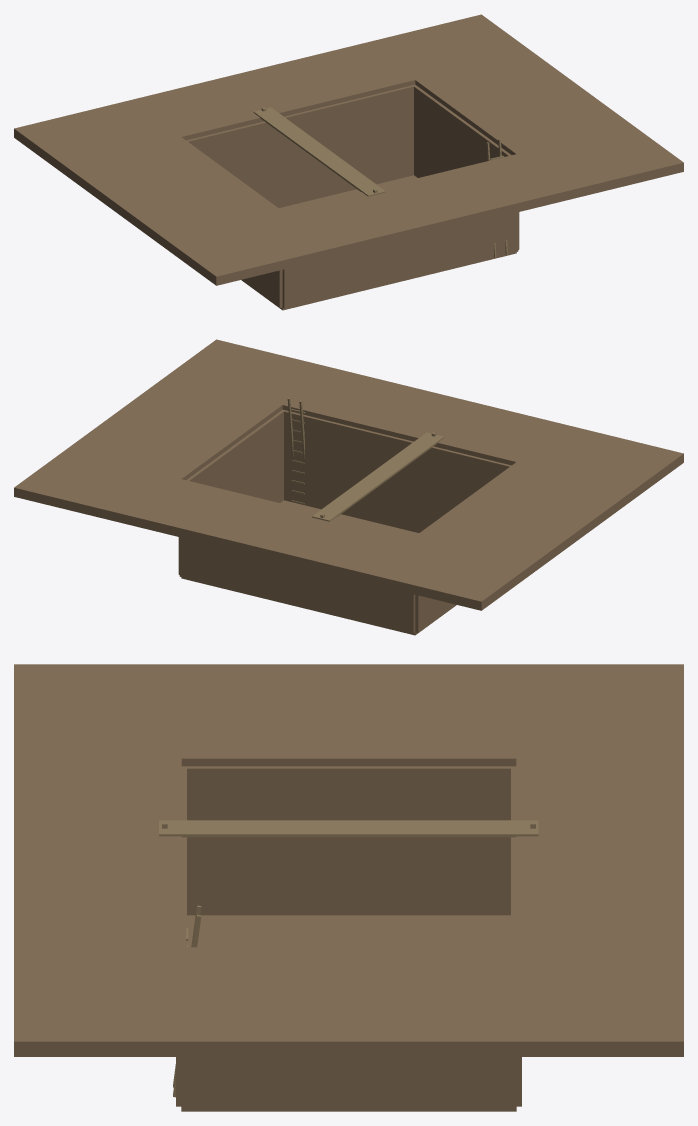
The model's file is foundation_pit_8x6.glb.
The picture shows the model from 3 angles, top to bottom: view 1: azimuth 30°, elevation 25°; view 2: azimuth 150°, elevation 25°; view 3: azimuth 270°, elevation 25°; orthographic projection. The views are drawn at different scales.
Parts seen in each view (by area): view 1: rim_w, rim_e, pit_wall.003, rim_s, rim_n, pit_wall.002, pit_wall.001, plank_bridge, pit_floor, pit_wall; view 2: rim_w, rim_e, pit_wall.002, rim_n, rim_s, pit_wall.003, pit_wall.001, plank_bridge, pit_floor, pit_wall; view 3: rim_e, rim_w, pit_wall, rim_n, rim_s, pit_wall.001, pit_floor, plank_bridge, pit_wall.003, pit_wall.002.
Part boxes in pixels (left/top/right/bottom): rim_w: left=14, top=100, right=333, bottom=285; rim_e: left=365, top=14, right=683, bottom=200; pit_wall.003: left=186, top=85, right=413, bottom=207; rim_s: left=283, top=154, right=566, bottom=257; rim_n: left=131, top=43, right=415, bottom=140; pit_wall.002: left=282, top=212, right=518, bottom=308; pit_wall.001: left=413, top=84, right=519, bottom=249; plank_bridge: left=253, top=107, right=385, bottom=196; pit_floor: left=241, top=175, right=516, bottom=310; pit_wall: left=241, top=270, right=282, bottom=307; rim_w: left=364, top=425, right=683, bottom=610; rim_e: left=14, top=339, right=332, bottom=525; pit_wall.002: left=284, top=410, right=511, bottom=532; rim_n: left=131, top=479, right=414, bottom=582; rim_s: left=282, top=368, right=566, bottom=465; pit_wall.003: left=179, top=537, right=415, bottom=633; pit_wall.001: left=178, top=409, right=284, bottom=574; plank_bridge: left=312, top=432, right=444, bottom=521; pit_floor: left=181, top=500, right=456, bottom=635; pit_wall: left=415, top=595, right=456, bottom=632; rim_e: left=14, top=947, right=683, bottom=1056; rim_w: left=14, top=664, right=683, bottom=766; pit_wall: left=181, top=766, right=516, bottom=915; rim_n: left=516, top=758, right=683, bottom=947; rim_s: left=14, top=758, right=181, bottom=947; pit_wall.001: left=181, top=1057, right=516, bottom=1108; pit_floor: left=181, top=915, right=516, bottom=1111; plank_bridge: left=159, top=820, right=538, bottom=837; pit_wall.003: left=511, top=766, right=521, bottom=1106; pit_wall.002: left=176, top=766, right=186, bottom=1106.
Size of what is drawn, in the model's own units: 16 by 3.69 by 12.
